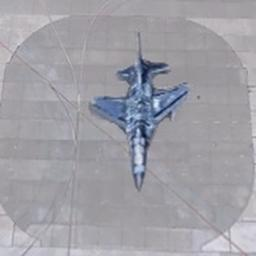Airplane: (87, 30, 190, 191)
